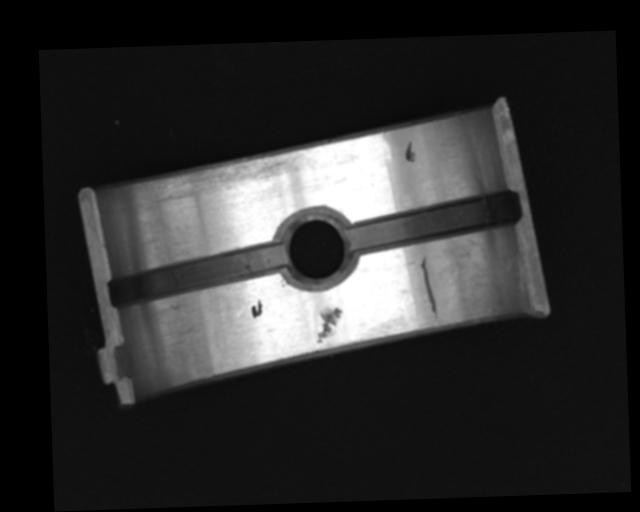blot: (249, 297, 264, 319)
bruise: (314, 306, 342, 343), (404, 141, 416, 163)
gap: (107, 241, 289, 306), (346, 191, 520, 256)
hole: (277, 207, 356, 287)
nick: (420, 255, 438, 322)
scratch: (155, 148, 307, 202)
